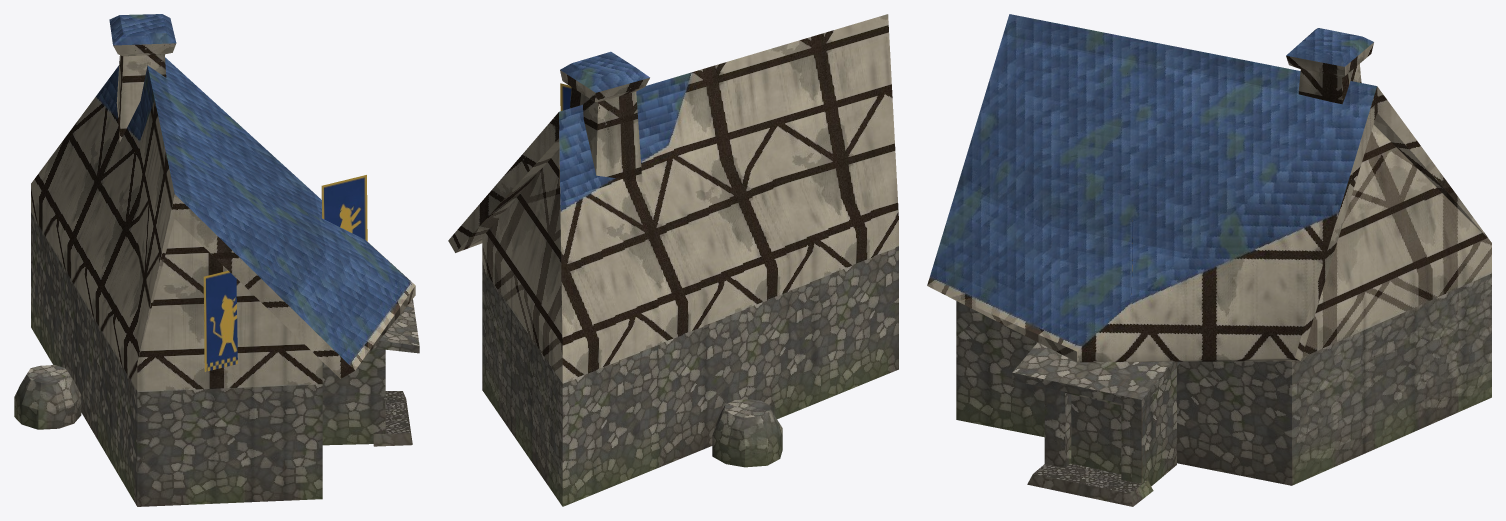
The model's file is house_12_card.glb.
3 views of the same model, side by side, from view 1: azimuth 30°, elevation 25°; view 2: azimuth 150°, elevation 25°; view 3: azimuth 270°, elevation 25° (orthographic). The views are drawn at different scales.
Parts seen in each view (by area): view 1: house_12_game_card; view 2: house_12_game_card; view 3: house_12_game_card.
Boxes of the visible parts, left/top/right/bottom form: house_12_game_card: left=14, top=14, right=419, bottom=506; house_12_game_card: left=448, top=14, right=898, bottom=506; house_12_game_card: left=927, top=14, right=1491, bottom=506.
Size of the model in its own units: 10.03 by 10.33 by 14.06.
Materials: 1 (1 with a texture image).
